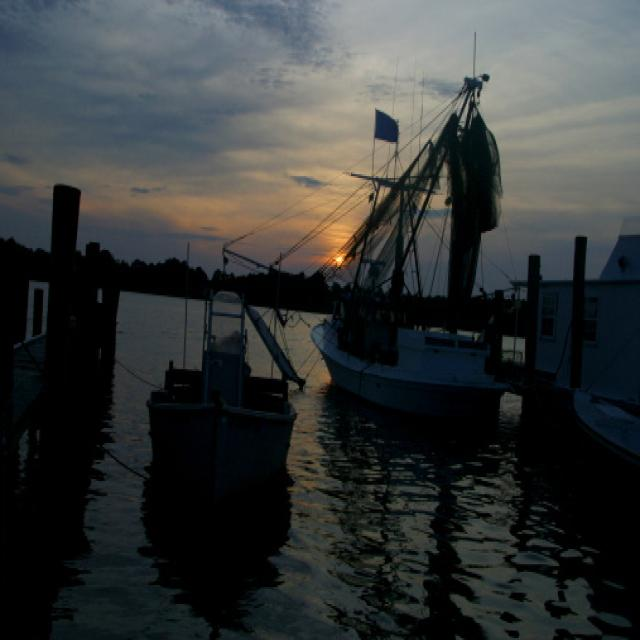Boat: (280, 124, 528, 433), (133, 310, 328, 524), (553, 386, 640, 506)
